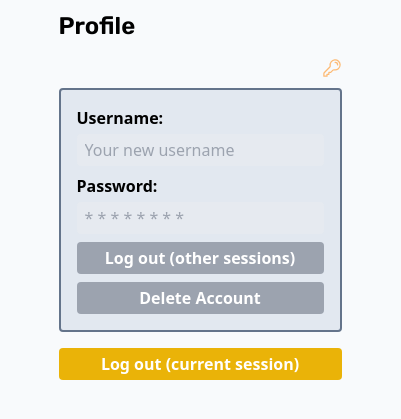
Scenario: ProfileView › logout (other-sessions) › on failure › clears any errors before retrying
The image size is (401, 419).
What coordinates should you click on to do the following:
click the button with test id "logout-other-sessions-button"
I would click on:
 (200, 258)
Its box is [76,242,324,274].
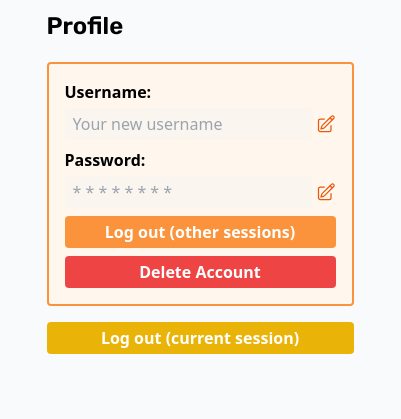
What coordinates should you click on to do the following:
click the button with test id "logout-other-sessions-button"
I would click on:
 (200, 232)
Its box is [64,216,336,248].
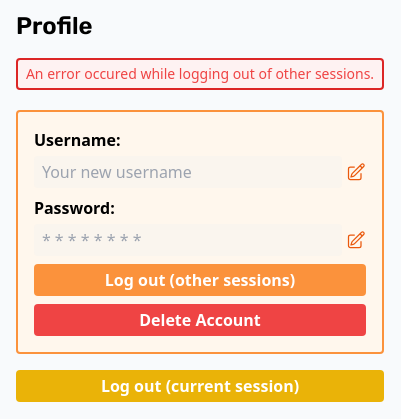
Expected: the list with test id "profile-view-errors" reads "An error occured while logging out of other sessions.", [26,64,374,83]
